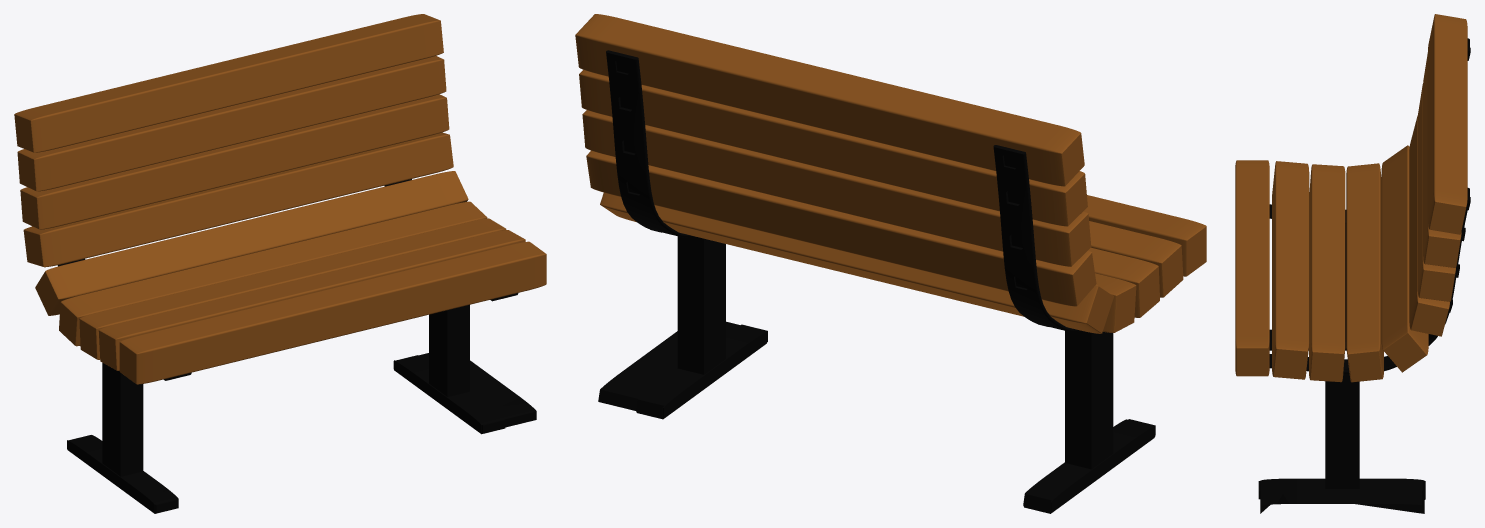
The model's file is b_bench.fbx.
The picture shows the model from 3 angles, left to right: view 1: azimuth 30°, elevation 25°; view 2: azimuth 150°, elevation 25°; view 3: azimuth 270°, elevation 25°; orthographic projection. The views are drawn at different scales.
Visible parts, largest first — view 1: Cube, Cube.009, Cube.003; view 2: Cube, Cube.009, Cube.003; view 3: Cube, Cube.009, Cube.003.
Part boxes in pixels (bbox=[...]): Cube: bbox=[14, 14, 546, 384]; Cube.009: bbox=[384, 179, 536, 434]; Cube.003: bbox=[58, 258, 191, 513]; Cube: bbox=[575, 14, 1206, 333]; Cube.009: bbox=[598, 50, 767, 419]; Cube.003: bbox=[993, 145, 1155, 513]; Cube: bbox=[1235, 14, 1467, 382]; Cube.009: bbox=[1258, 188, 1470, 513]; Cube.003: bbox=[1269, 38, 1470, 350].
Bounding box in the file's own units: 629 × 486 × 331.
